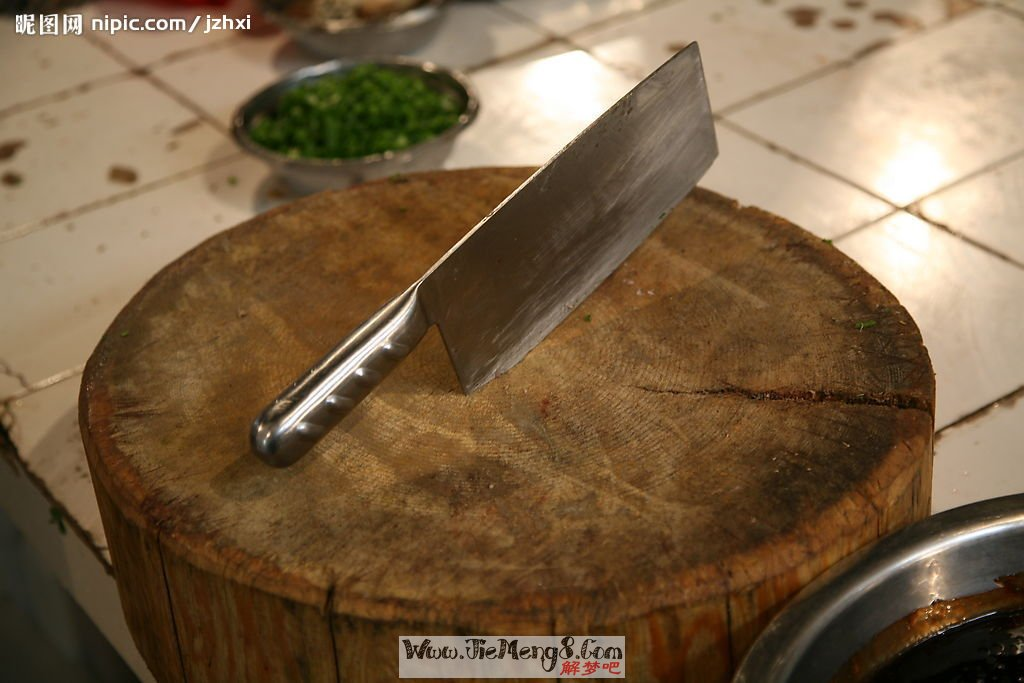knief: (255, 44, 725, 456)
